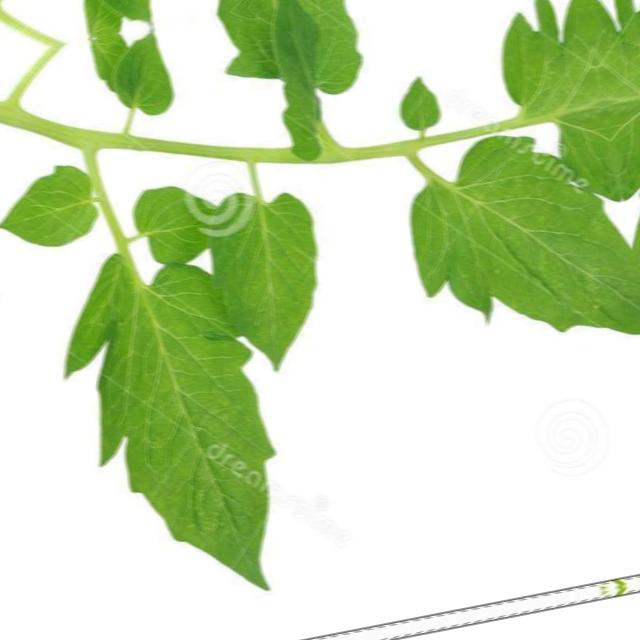Tomato leaf: (39, 232, 300, 640), (342, 94, 640, 427), (166, 157, 359, 420), (468, 0, 623, 220), (198, 0, 412, 140)
